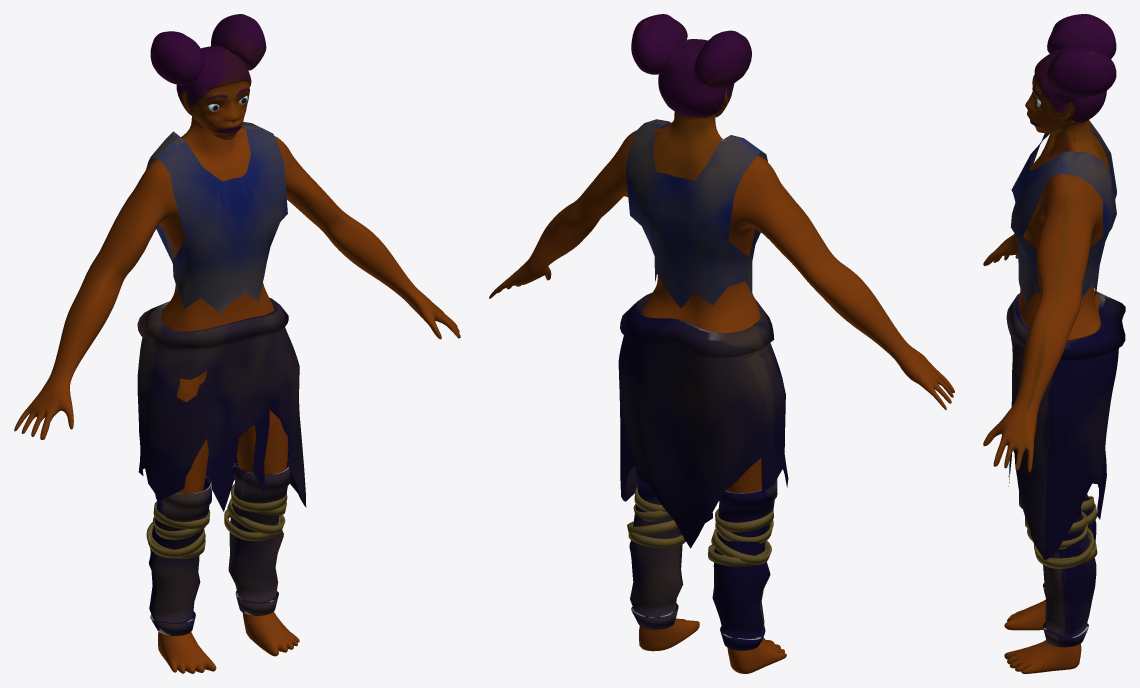
File: characterF.fbx
3 renders of one model, left to right at view 1: azimuth 30°, elevation 25°; view 2: azimuth 150°, elevation 25°; view 3: azimuth 270°, elevation 25°, orthographic. The views are drawn at different scales.
Parts seen in each view (by area): view 1: Retopo, Plane.001, Plane, Circle, Circle.001; view 2: Retopo, Plane.001, Plane, Circle, Circle.001; view 3: Retopo, Plane.001, Plane, Circle, Circle.001.
Part boxes in pixels (x1,y1,x2,y2): Retopo: (14, 14, 460, 673); Plane.001: (137, 297, 306, 511); Plane: (146, 122, 287, 313); Circle: (149, 456, 290, 635); Circle.001: (146, 484, 287, 558); Retopo: (489, 14, 954, 673); Plane.001: (618, 292, 788, 548); Plane: (625, 119, 767, 308); Circle: (629, 465, 777, 650); Circle.001: (627, 485, 773, 566); Retopo: (983, 14, 1116, 673); Plane.001: (1006, 291, 1125, 559); Plane: (1011, 121, 1116, 304); Circle: (1019, 491, 1096, 647); Circle.001: (1025, 493, 1097, 568).
Bounding box in the file's own units: 1265 × 1687 × 356.
Materials: 6 (6 with a texture image).
